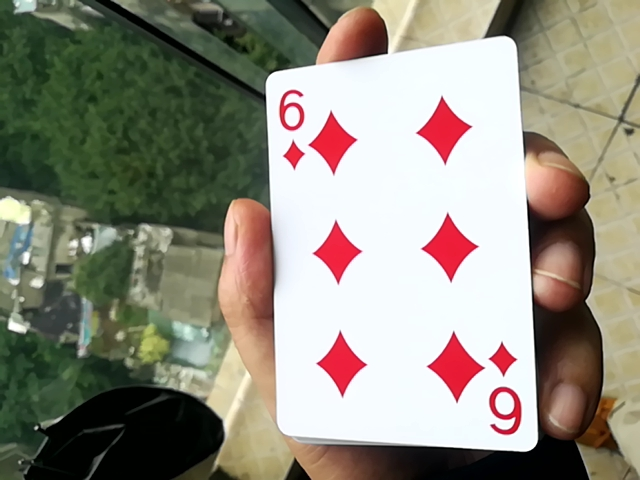fk 6: (248, 38, 550, 446)
